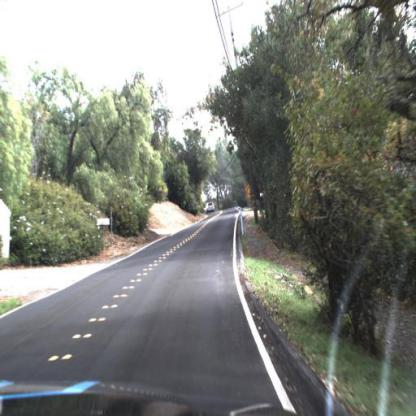car: (204, 198, 223, 218), (203, 199, 217, 219)
